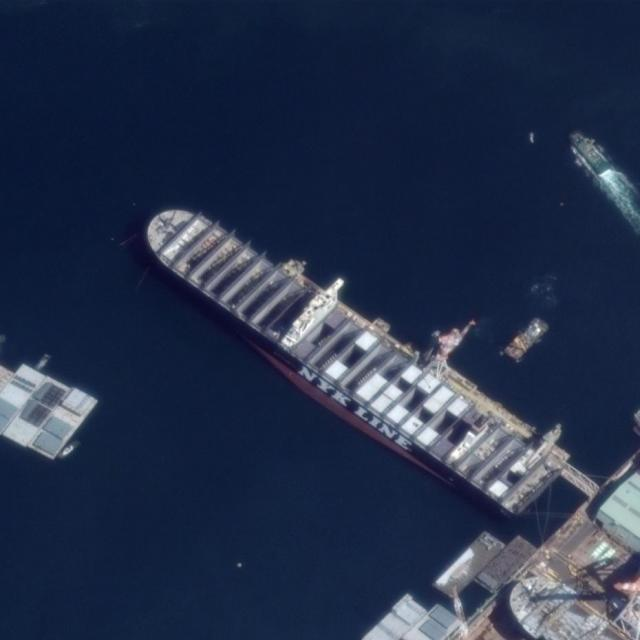Cargo: (122, 162, 584, 538)
